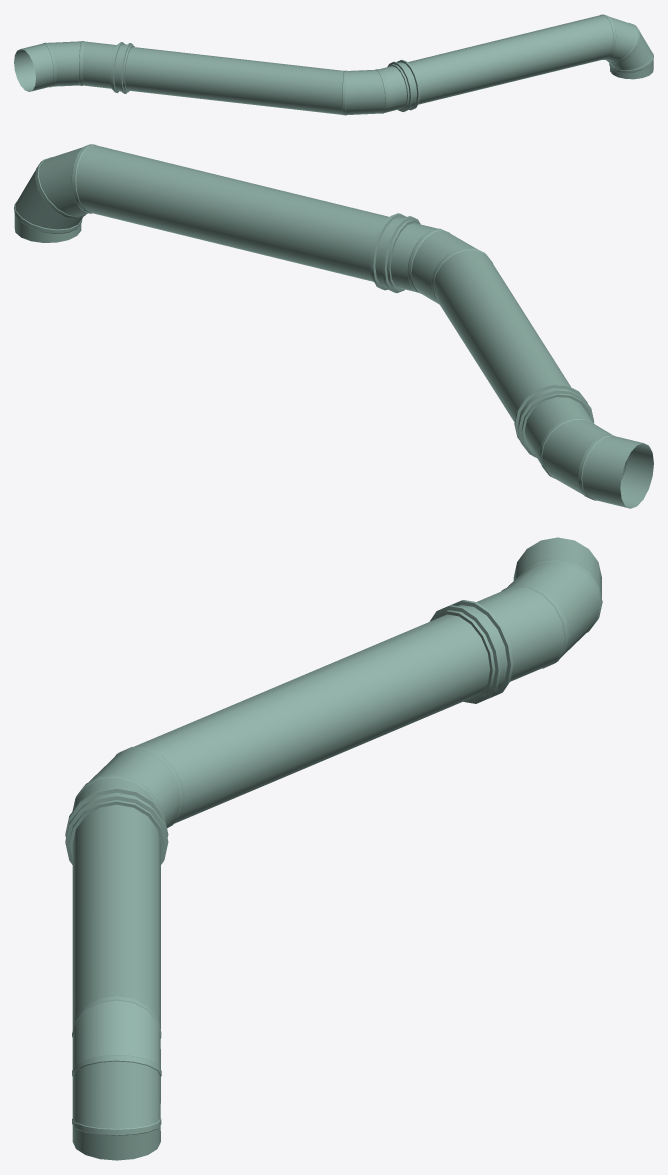
Rendered from PipeComplexLarge_B_03.fbx.
The picture shows the model from 3 angles, top to bottom: view 1: azimuth 30°, elevation 25°; view 2: azimuth 150°, elevation 25°; view 3: azimuth 270°, elevation 25°; orthographic projection. The views are drawn at different scales.
Visible parts, largest first — view 1: PipeComplexLarge_B_03.001; view 2: PipeComplexLarge_B_03.001; view 3: PipeComplexLarge_B_03.001.
Boxes of the visible parts, x1=… form: PipeComplexLarge_B_03.001: x1=14, y1=14, x2=653, y2=115; PipeComplexLarge_B_03.001: x1=14, y1=144, x2=653, y2=508; PipeComplexLarge_B_03.001: x1=65, y1=537, x2=602, y2=1160.
Bounding box in the file's own units: 2.7 × 0.3167 × 1.22.
